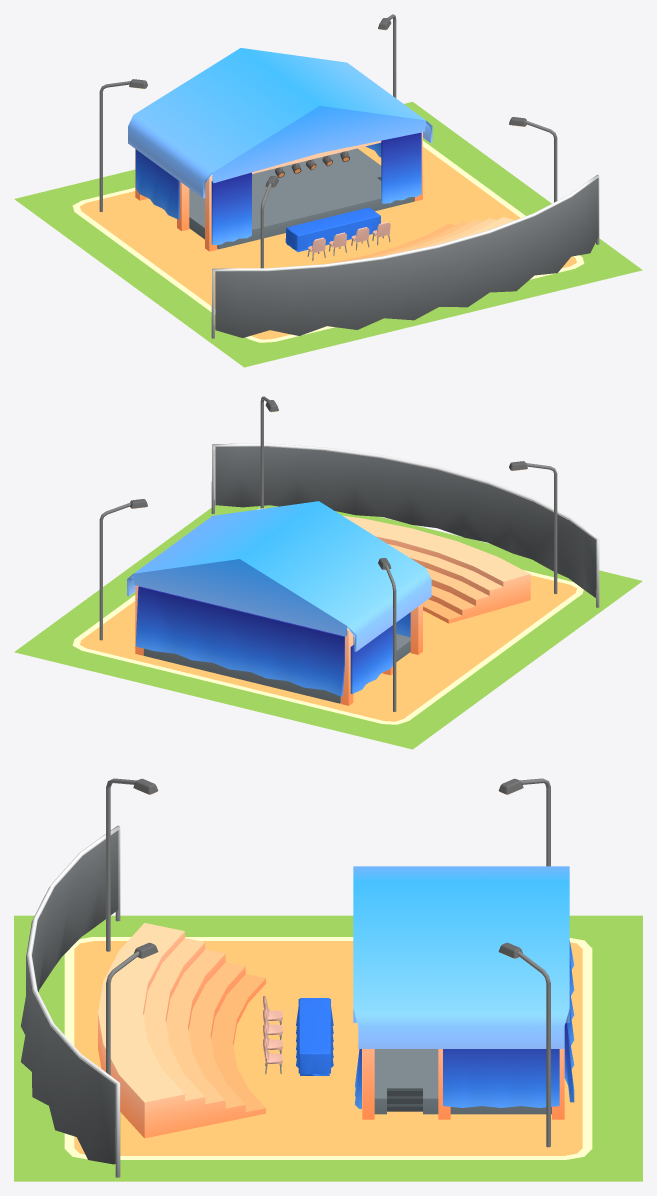
The model's file is Entertainment_Theatre_01.glb.
3 renders of one model, top to bottom at view 1: azimuth 30°, elevation 25°; view 2: azimuth 150°, elevation 25°; view 3: azimuth 270°, elevation 25°, orthographic. The views are drawn at different scales.
Visible parts, largest first — view 1: Entertainment_Theatre_01; view 2: Entertainment_Theatre_01; view 3: Entertainment_Theatre_01.
Boxes of the visible parts, x1=… form: Entertainment_Theatre_01: x1=14, y1=14, x2=642, y2=367; Entertainment_Theatre_01: x1=14, y1=396, x2=642, y2=749; Entertainment_Theatre_01: x1=14, y1=778, x2=642, y2=1181.
Bounding box in the file's own units: 30 × 9.71 × 30.
Materials: 2 (2 with a texture image).
